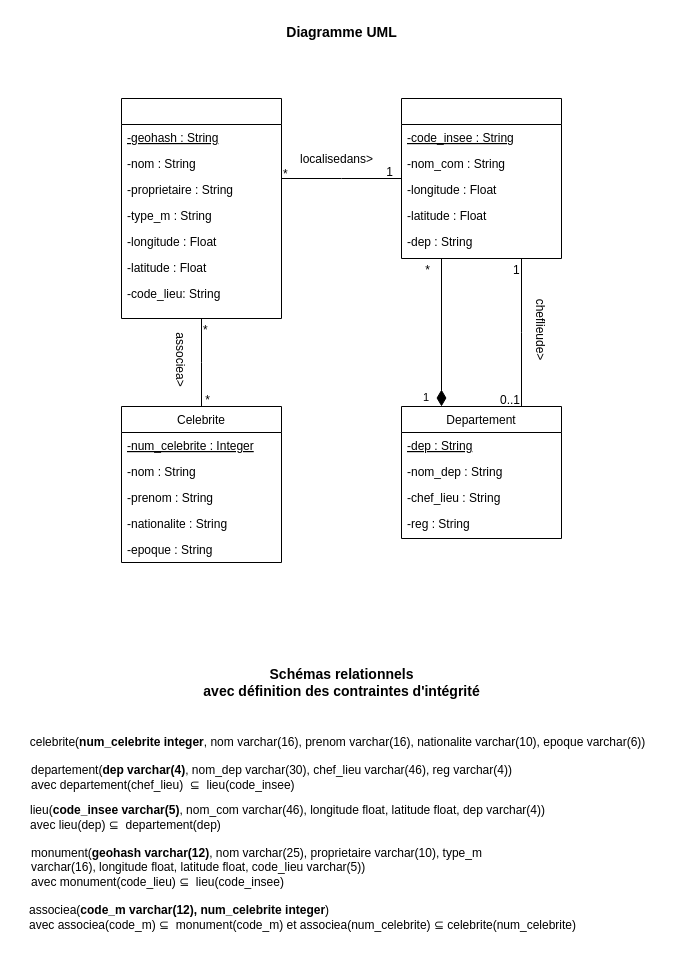
This 674x954 diagram has some shape labels left out. Each missing label, with the box of its shape:
Lieu: (400, 98, 562, 258)
Monument: (120, 98, 282, 318)
